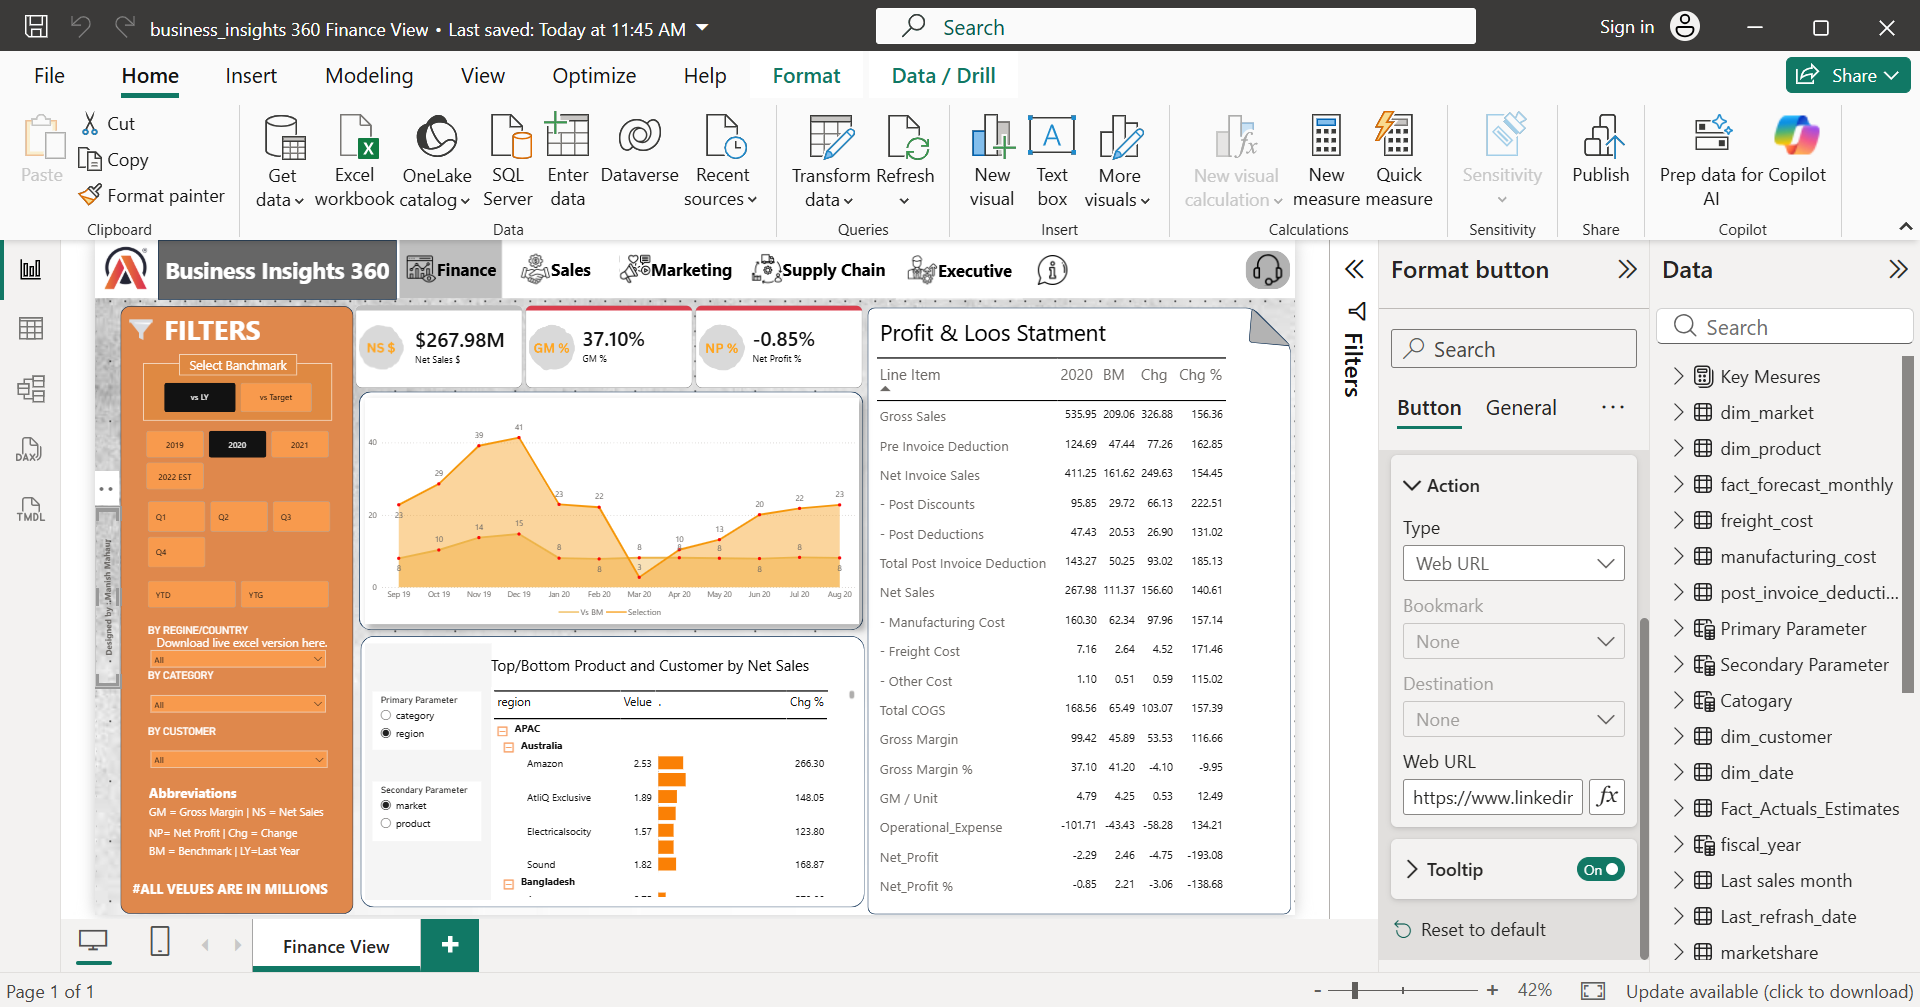

Layout of this report page (visuals, bound fields, positions):
{"tool":"powerbi","page":{"name":"Finance View ","canvas":[1920,1080],"ordinal":0},"visuals":[{"type":"shape","box":[0,0,1920.7,93.1],"z":0},{"type":"shape","box":[0.3,0,264,24],"z":1000},{"type":"shape","box":[10,10,237.5,33.8],"z":2000},{"type":"image","box":[0,9.5,100.2,69.2],"z":3000},{"type":"shape","box":[60,144,249.6,50.4],"z":4000},{"type":"shape","box":[99.6,532.9,511.4,52],"z":5000},{"type":"shape","box":[40,105,372.5,972.5],"z":6000},{"type":"shape","box":[99.6,615.8,511.4,52],"z":7000},{"type":"actionButton","box":[0,426.3,39.8,289.5],"z":8000},{"type":"actionButton","box":[486.7,0,164.6,93.1],"z":9000},{"type":"actionButton","box":[651.4,0,171.8,93.1],"z":10000},{"type":"actionButton","box":[823.1,0,212.3,93.1],"z":11000},{"type":"actionButton","box":[1035.5,0,245.7,93.1],"z":12000},{"type":"actionButton","box":[1281.2,0,202.8,95.4],"z":13000},{"type":"actionButton","box":[1841.9,16.7,71.6,62],"z":14000},{"type":"image","box":[1507.9,23.9,50.1,47.7],"z":15000},{"type":"shape","box":[100.2,0,381.7,95.4],"z":16000},{"type":"cardVisual","fields":{"Data":["Key Mesures.Net Sales $","Key Mesures.GM %","Key Mesures.Net Profit %"]},"box":[400.8,88.3,844.6,164.6],"z":17000},{"type":"advancedSlicerVisual","fields":{"Values":["fiscal_year.FY Desc"]},"box":[75.8,300,302.6,105.3],"z":18000},{"type":"advancedSlicerVisual","fields":{"Values":["dim_date.Quarter"]},"box":[78.2,412.2,302.4,117.1],"z":19000},{"type":"advancedSlicerVisual","fields":{"Values":["dim_date.YTD_YTG"]},"box":[78.2,539,300,53.7],"z":20000},{"type":"slicer","title":"BY REGINE/COUNTRY","fields":{"Values":[" dim_market.region"," dim_market.market"]},"box":[78.3,615,300,82.5],"z":21000},{"type":"slicer","title":"BY CATEGORY","fields":{"Values":[" dim_product.segment"," dim_product.category"," dim_product.product"]},"box":[78.3,687.5,300,87.5],"z":22000},{"type":"slicer","title":"BY CUSTOMER","fields":{"Values":["dim_customer.customer"]},"box":[78.3,775,302.5,80],"z":23000},{"type":"image","box":[44.2,118.4,60.5,50],"z":24000},{"type":"textbox","box":[104.7,107.9,192.1,78.9],"z":25000},{"type":"shape","box":[75.8,197.4,302.6,92.1],"z":26000},{"type":"shape","box":[133.7,181.4,189,34.2],"z":27000},{"type":"advancedSlicerVisual","fields":{"Values":["Set BM.Benchmark"]},"box":[104.7,223.7,247.4,57.9],"z":28000},{"type":"shape","box":[85.8,897.5,292.5,32.5],"z":29000},{"type":"shape","box":[85.8,865,285,40],"z":30000},{"type":"shape","box":[85.8,930,285,32.5],"z":31000},{"type":"shape","box":[85.8,962.5,285,30],"z":32000},{"type":"shape","box":[60.8,1017.5,340,40],"z":33000},{"type":"shape","box":[1235.9,107.4,677.6,971.1],"z":34000},{"type":"shape","box":[1841.9,107.4,78.7,62],"z":35000},{"type":"pivotTable","fields":{"Columns":["P & L Column.Col Header"],"Rows":["P & L Rows.Line Item"],"Values":["Key Mesures.Final P & L velue"]},"box":[1245.4,181.3,658.5,887.6],"z":36000},{"type":"shape","box":[1245.4,114.5,381.7,64.4],"z":37000},{"type":"shape","box":[422.3,243.4,806.4,381.7],"z":38000},{"type":"areaChart","fields":{"Category":["dim_date.Date"],"Y":["Key Mesures.P & L BM $","Key Mesures.P & L Velue"]},"box":[431.9,252.9,789.7,362.7],"z":39000},{"type":"shape","box":[424.7,634.7,806.4,434.2],"z":40000},{"type":"shape","box":[431.9,646.6,202.8,410.4],"z":41000},{"type":"slicer","fields":{"Values":[" Primary Parameter. Primary Parameter"]},"box":[443.8,722.9,174.2,93.1],"z":42000},{"type":"slicer","fields":{"Values":[" Secondary Parameter. Secondary Parameter"]},"box":[443.8,866.1,174.2,95.4],"z":43000},{"type":"pivotTable","fields":{"Rows":[" dim_market.region"," dim_market.market","dim_customer.customer"],"Values":["Key Mesures.P & L Velue","Key Mesures.Bar For P&N Velus","Key Mesures.P & L Chg %"]},"box":[634.7,715.8,586.9,341.2],"z":44000},{"type":"shape","box":[634.7,646.6,586.9,69.2],"z":45000}]}

Visuals, with their boxes on the page's 1920x1080 design canvas (x1, y1, x2, y2). These are canvas units, not pixel positions in the 1920x1007 screenshot, which may show the page scaled, cropped or inside an application window:
shape: (0, 0, 1921, 93)
shape: (0, 0, 264, 24)
shape: (10, 10, 248, 44)
image: (0, 10, 100, 79)
shape: (60, 144, 310, 194)
shape: (100, 533, 611, 585)
shape: (40, 105, 412, 1078)
shape: (100, 616, 611, 668)
actionButton: (0, 426, 40, 716)
actionButton: (487, 0, 651, 93)
actionButton: (651, 0, 823, 93)
actionButton: (823, 0, 1035, 93)
actionButton: (1036, 0, 1281, 93)
actionButton: (1281, 0, 1484, 95)
actionButton: (1842, 17, 1914, 79)
image: (1508, 24, 1558, 72)
shape: (100, 0, 482, 95)
cardVisual - Key Mesures.Net Sales $ x Key Mesures.GM %: (401, 88, 1245, 253)
advancedSlicerVisual - fiscal_year.FY Desc: (76, 300, 378, 405)
advancedSlicerVisual - dim_date.Quarter: (78, 412, 381, 529)
advancedSlicerVisual - dim_date.YTD_YTG: (78, 539, 378, 593)
"BY REGINE/COUNTRY" slicer: (78, 615, 378, 698)
"BY CATEGORY" slicer: (78, 688, 378, 775)
"BY CUSTOMER" slicer: (78, 775, 381, 855)
image: (44, 118, 105, 168)
textbox: (105, 108, 297, 187)
shape: (76, 197, 378, 290)
shape: (134, 181, 323, 216)
advancedSlicerVisual - Set BM.Benchmark: (105, 224, 352, 282)
shape: (86, 898, 378, 930)
shape: (86, 865, 371, 905)
shape: (86, 930, 371, 962)
shape: (86, 962, 371, 992)
shape: (61, 1018, 401, 1058)
shape: (1236, 107, 1914, 1078)
shape: (1842, 107, 1921, 169)
pivotTable - P & L Column.Col Header x P & L Rows.Line Item: (1245, 181, 1904, 1069)
shape: (1245, 114, 1627, 179)
shape: (422, 243, 1229, 625)
areaChart - dim_date.Date x Key Mesures.P & L BM $: (432, 253, 1222, 616)
shape: (425, 635, 1231, 1069)
shape: (432, 647, 635, 1057)
slicer -  Primary Parameter. Primary Parameter: (444, 723, 618, 816)
slicer -  Secondary Parameter. Secondary Parameter: (444, 866, 618, 962)
pivotTable -  dim_market.region x  dim_market.market: (635, 716, 1222, 1057)
shape: (635, 647, 1222, 716)
